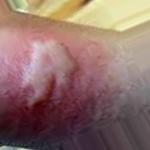Mosquito: (10, 32, 84, 116)
